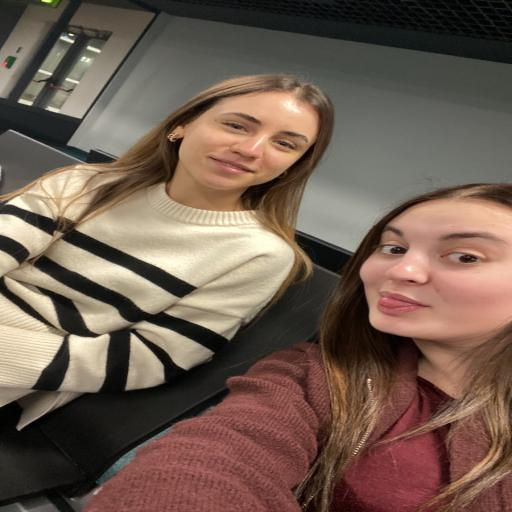masa: (175, 78, 331, 191)
